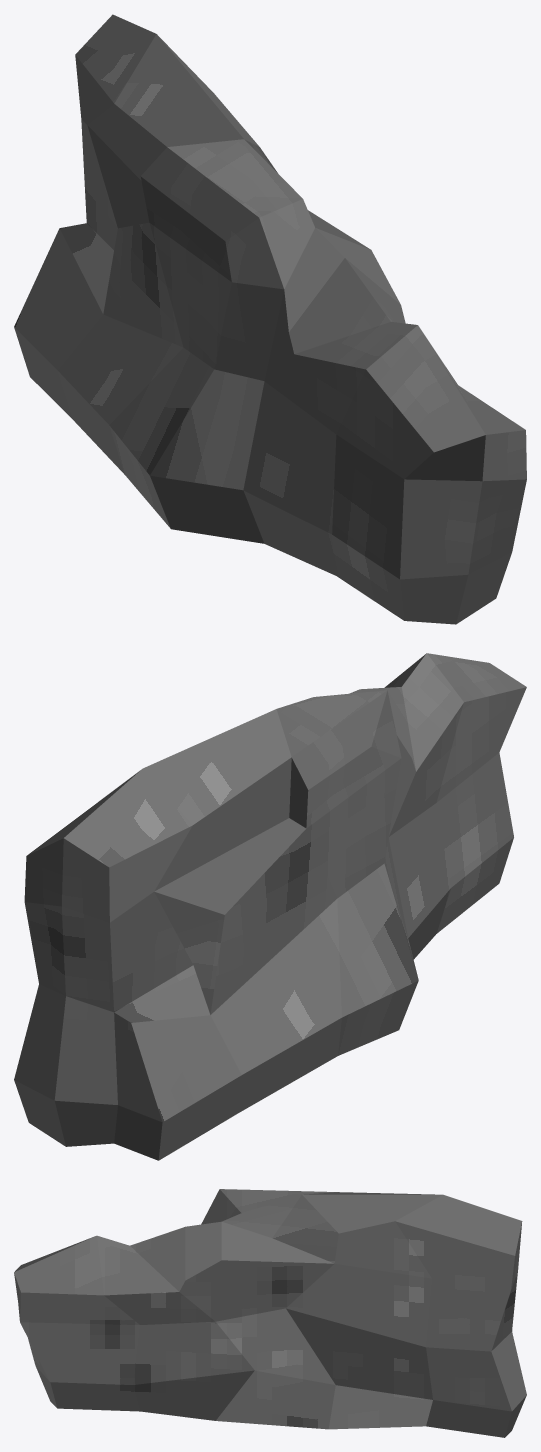
The model's file is PixelRockWall.glb.
The picture shows the model from 3 angles, top to bottom: view 1: azimuth 30°, elevation 25°; view 2: azimuth 150°, elevation 25°; view 3: azimuth 270°, elevation 25°; orthographic projection. The views are drawn at different scales.
Visible parts, largest first — view 1: Cube; view 2: Cube; view 3: Cube.
Part boxes in pixels (x1,y1,x2,y2): Cube: (14, 14, 526, 624); Cube: (14, 653, 526, 1160); Cube: (14, 1189, 526, 1437).
Bounding box in the file's own units: 2.56 × 3.91 × 7.91.
1 material, 1 textured.
